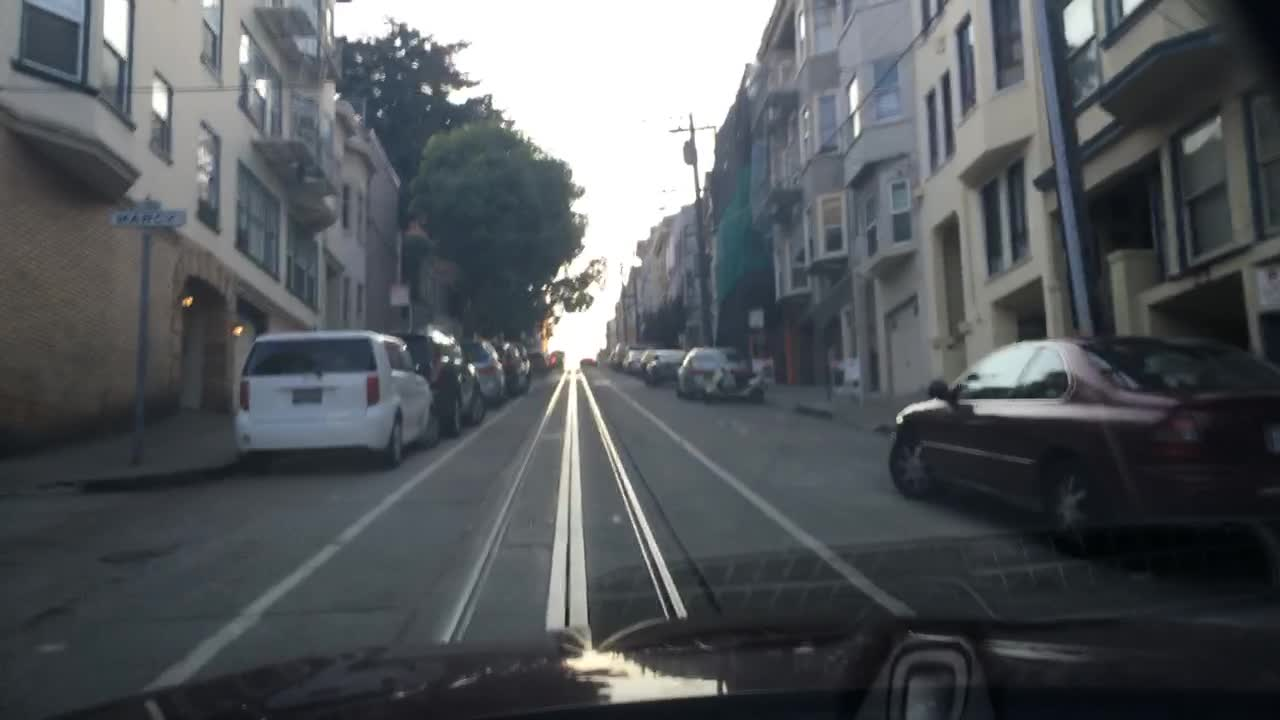car: (886, 332, 1278, 534), (231, 325, 440, 474), (389, 326, 488, 439), (673, 345, 749, 400), (458, 336, 507, 408), (489, 340, 529, 394), (639, 346, 686, 381), (643, 350, 688, 386), (510, 340, 534, 384), (621, 345, 656, 375), (613, 340, 645, 370), (528, 348, 549, 373), (548, 349, 566, 369), (606, 346, 620, 364), (578, 356, 596, 366)
motor: (699, 364, 770, 404)
traffic sign: (107, 204, 193, 228), (388, 281, 411, 308), (747, 308, 764, 326)
